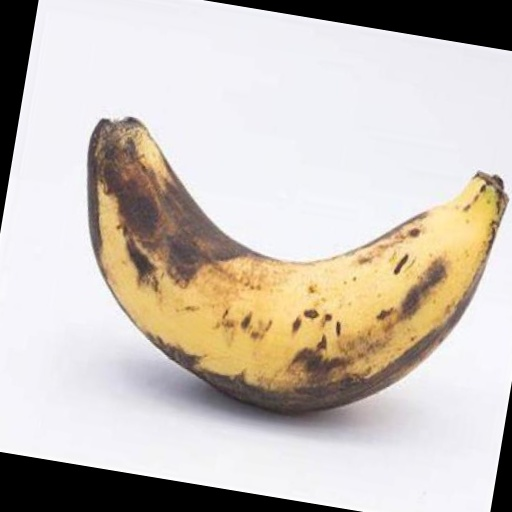fruit: (87, 118, 508, 412)
